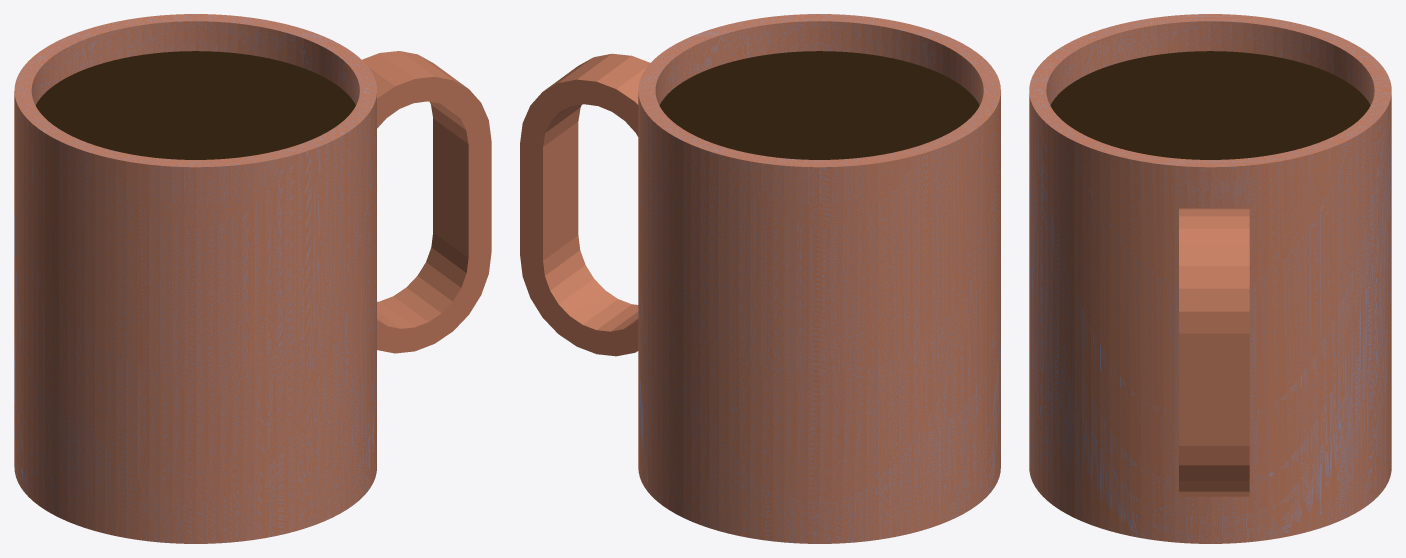
3 views of the same model, side by side, from view 1: azimuth 30°, elevation 25°; view 2: azimuth 150°, elevation 25°; view 3: azimuth 270°, elevation 25° (orthographic).
Visible parts, largest first — view 1: mesh2.002_mesh2-geometry, mesh1.002_mesh1-geometry; view 2: mesh2.002_mesh2-geometry, mesh1.002_mesh1-geometry; view 3: mesh2.002_mesh2-geometry, mesh1.002_mesh1-geometry.
Part boxes in pixels (x1,y1,x2,y2): mesh2.002_mesh2-geometry: [14, 14, 376, 543]; mesh1.002_mesh1-geometry: [362, 51, 491, 353]; mesh2.002_mesh2-geometry: [638, 14, 1000, 543]; mesh1.002_mesh1-geometry: [520, 53, 649, 356]; mesh2.002_mesh2-geometry: [1029, 14, 1391, 543]; mesh1.002_mesh1-geometry: [1179, 208, 1249, 496].
Bounding box in the file's own units: 0.6749 × 0.556 × 0.4851.
